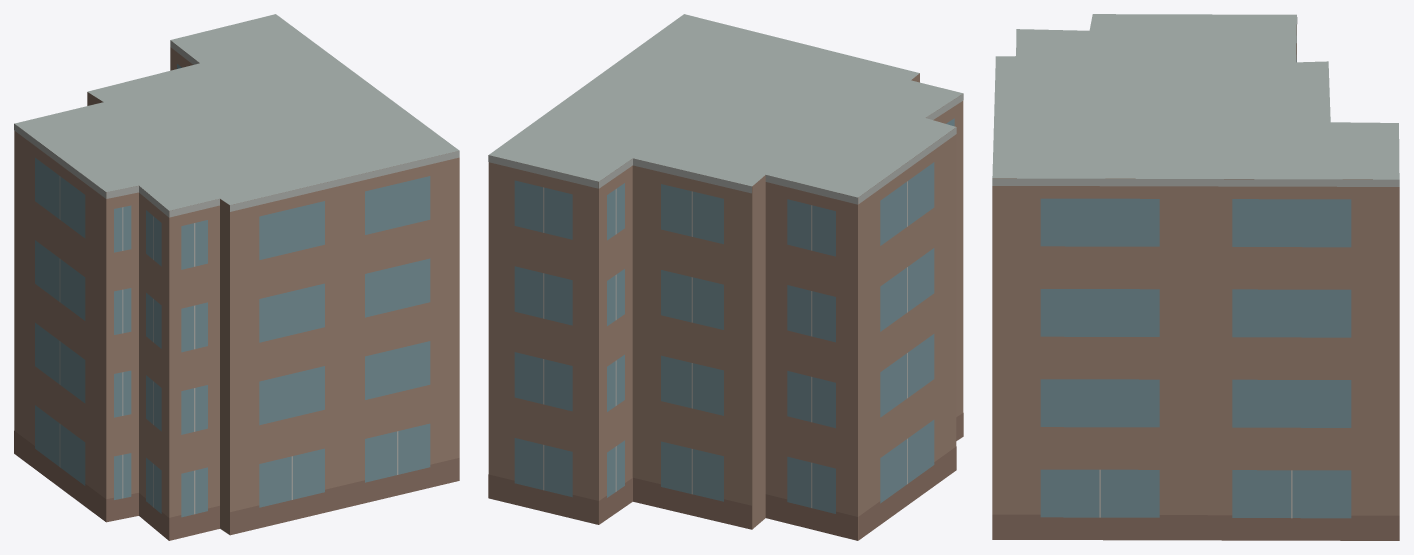
The model's file is survey-upis-32874555.glb.
The picture shows the model from 3 angles, left to right: view 1: azimuth 30°, elevation 25°; view 2: azimuth 150°, elevation 25°; view 3: azimuth 270°, elevation 25°; orthographic projection. The views are drawn at different scales.
Parts seen in each view (by area): view 1: survey-upis-32874555.tmp; view 2: survey-upis-32874555.tmp; view 3: survey-upis-32874555.tmp.
Boxes of the visible parts, bbox=[...] form: survey-upis-32874555.tmp: bbox=[14, 14, 459, 540]; survey-upis-32874555.tmp: bbox=[488, 14, 963, 540]; survey-upis-32874555.tmp: bbox=[992, 14, 1399, 540].
Size of the model in its own units: 11.6 by 11.8 by 12.06.
